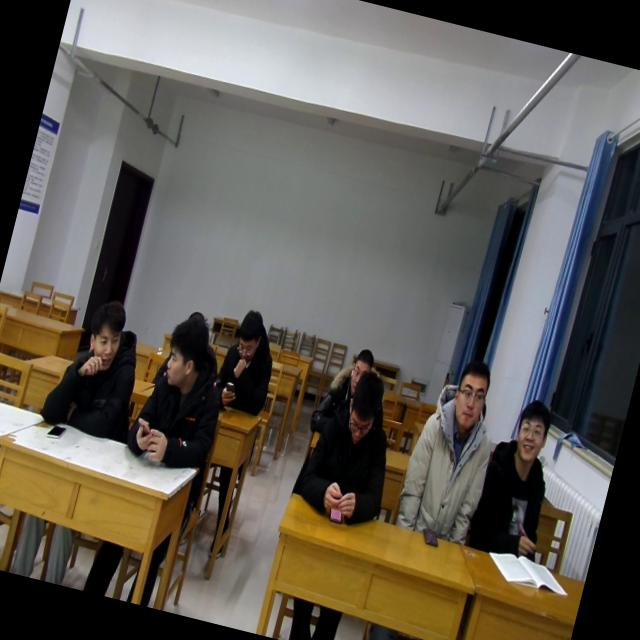bow: (306, 337, 378, 445)
down: (336, 366, 389, 450), (227, 303, 271, 370), (342, 339, 378, 396)
lookup: (443, 349, 496, 434), (504, 392, 558, 470)
sit: (388, 344, 516, 550), (118, 301, 244, 484), (289, 355, 415, 534), (35, 286, 156, 448), (463, 388, 573, 564), (208, 304, 288, 419)
